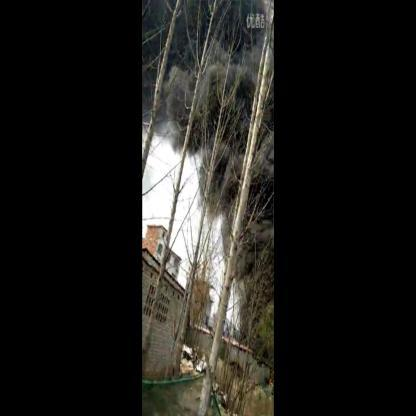smoke: (164, 68, 190, 112)
